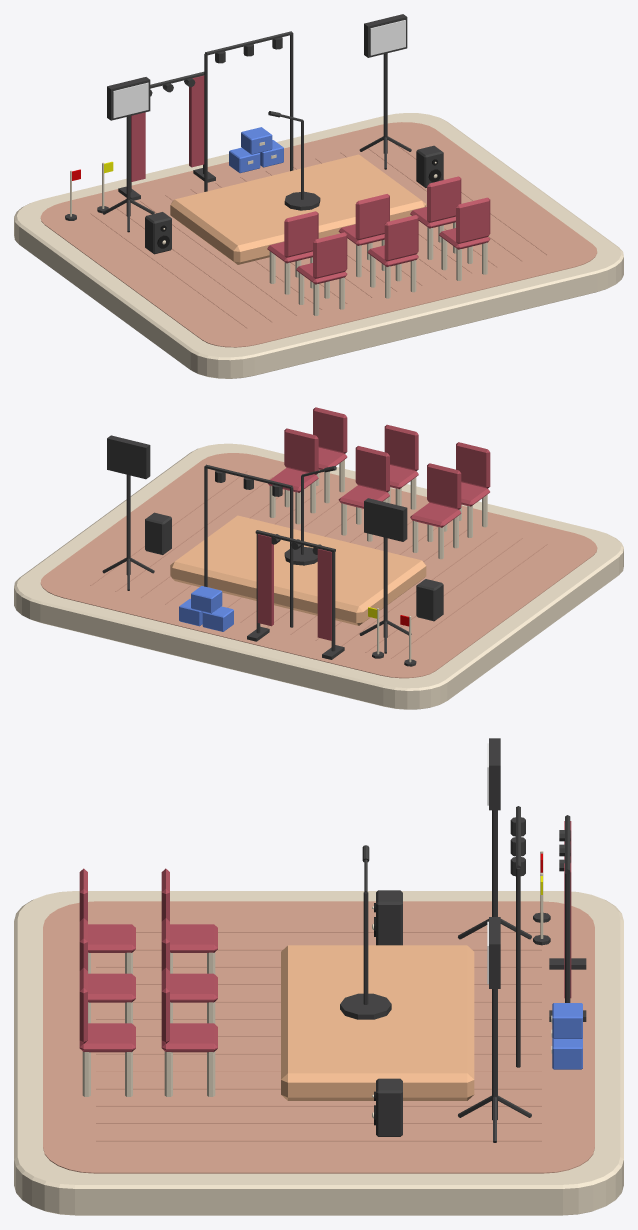
Rendered from room.fbx.
3 views of the same model, one above another, from view 1: azimuth 30°, elevation 25°; view 2: azimuth 150°, elevation 25°; view 3: azimuth 270°, elevation 25° (orthographic). The views are drawn at different scales.
Visible parts, largest first — view 1: COM-02 Floor Surface, COM-01 Rounded Base Direct, Low stage, Backrest.004, Backrest.003, Backrest.005, Backrest.001, Backrest, Backrest.002, Diffuser.001, Diffuser, Enclosure (+12 smaller); view 2: COM-02 Floor Surface, COM-01 Rounded Base Direct, Low stage, Light panel, Light panel.001, Backrest, Backrest.001, Backrest.002, Backrest.003, Backrest.005, Backrest.004, Enclosure (+19 smaller); view 3: COM-02 Floor Surface, COM-01 Rounded Base Direct, Low stage, Enclosure.001, Enclosure, Seat.005, Seat.002, Seat.001, Seat.004, Seat, Seat.003, Stacked case.002 (+12 smaller).
Part boxes in pixels (x1,y1,x2,y2): COM-02 Floor Surface: (40,122,597,347); COM-01 Rounded Base Direct: (14,113,623,378); Low stage: (170,154,426,264); Backrest.004: (384,215,418,261); Backrest.003: (313,232,347,278); Backrest.005: (456,197,490,243); Backrest.001: (355,194,389,240); Backrest: (284,211,318,257); Backrest.002: (427,176,461,222); Diffuser.001: (370,20,405,55); Diffuser: (113,82,148,118); Enclosure: (145,212,171,254); COM-02 Floor Surface: (40,453,597,678); COM-01 Rounded Base Direct: (14,443,623,709); Low stage: (170,515,426,625); Light panel: (364,498,407,541); Light panel.001: (107,435,150,479); Backrest: (427,463,461,509); Backrest.001: (355,446,389,492); Backrest.002: (284,428,318,474); Backrest.003: (456,442,490,488); Backrest.005: (313,407,347,453); Backrest.004: (384,424,418,471); Enclosure: (416,579,443,621); COM-02 Floor Surface: (43,901,594,1173); COM-01 Rounded Base Direct: (14,891,623,1215); Low stage: (281,945,474,1100); Enclosure.001: (376,1078,402,1136); Enclosure: (376,890,402,945); Seat.005: (79,1023,135,1052); Seat.002: (161,1023,217,1052); Seat.001: (170,973,217,1002); Seat.004: (88,973,135,1002); Seat: (170,924,217,952); Seat.003: (88,924,135,952); Stacked case.002: (552,1003,582,1038).
Size of the model in its own units: 600 by 219 by 520.
